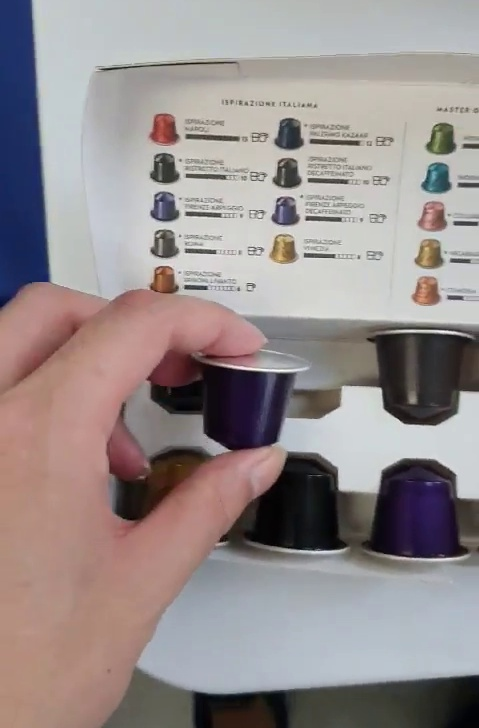capsule_2: (192, 345, 312, 455)
